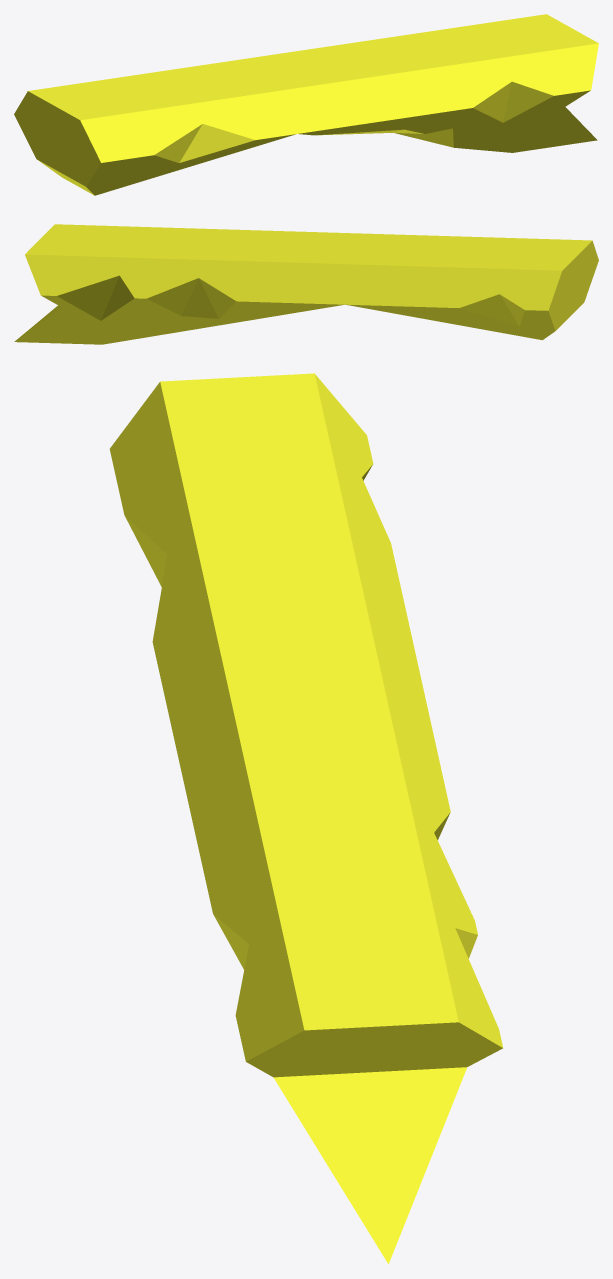
The model's file is x_skala_crash_25_1_dop.fbx.
3 renders of one model, top to bottom at view 1: azimuth 30°, elevation 25°; view 2: azimuth 150°, elevation 25°; view 3: azimuth 270°, elevation 25°, orthographic. The views are drawn at different scales.
Visible parts, largest first — view 1: x_skala_crash_25_1_dop1; view 2: x_skala_crash_25_1_dop1; view 3: x_skala_crash_25_1_dop1.
Boxes of the visible parts, left/top/right/bottom form: x_skala_crash_25_1_dop1: left=14, top=14, right=598, bottom=195; x_skala_crash_25_1_dop1: left=14, top=224, right=598, bottom=344; x_skala_crash_25_1_dop1: left=109, top=373, right=502, bottom=1263.
Bounding box in the file's own units: 9.43 × 3.18 × 3.04.
